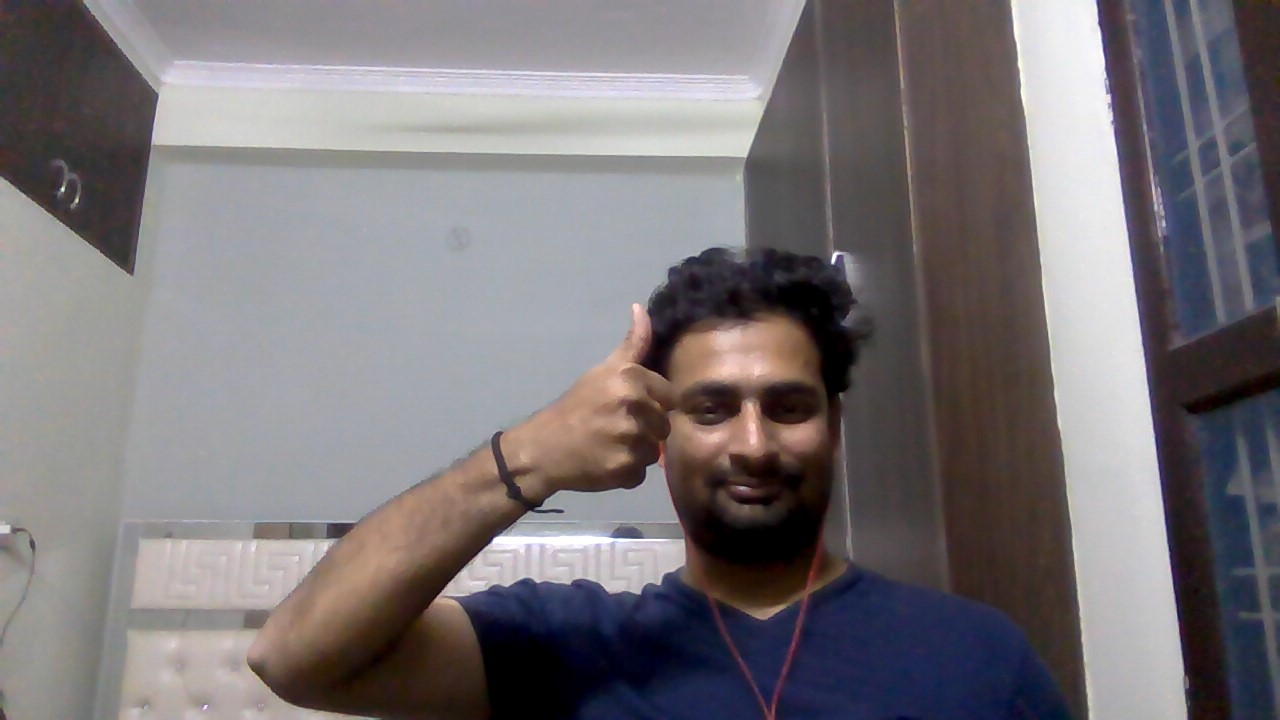Save: (533, 291, 688, 515)
